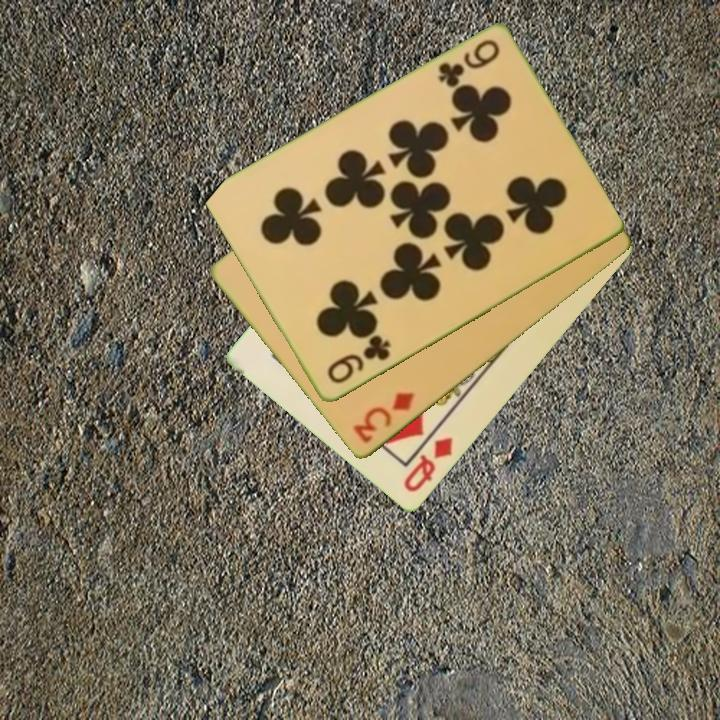3d: (349, 389, 418, 447)
9c: (323, 332, 394, 388), (434, 36, 503, 92)
Qd: (400, 434, 456, 496)
